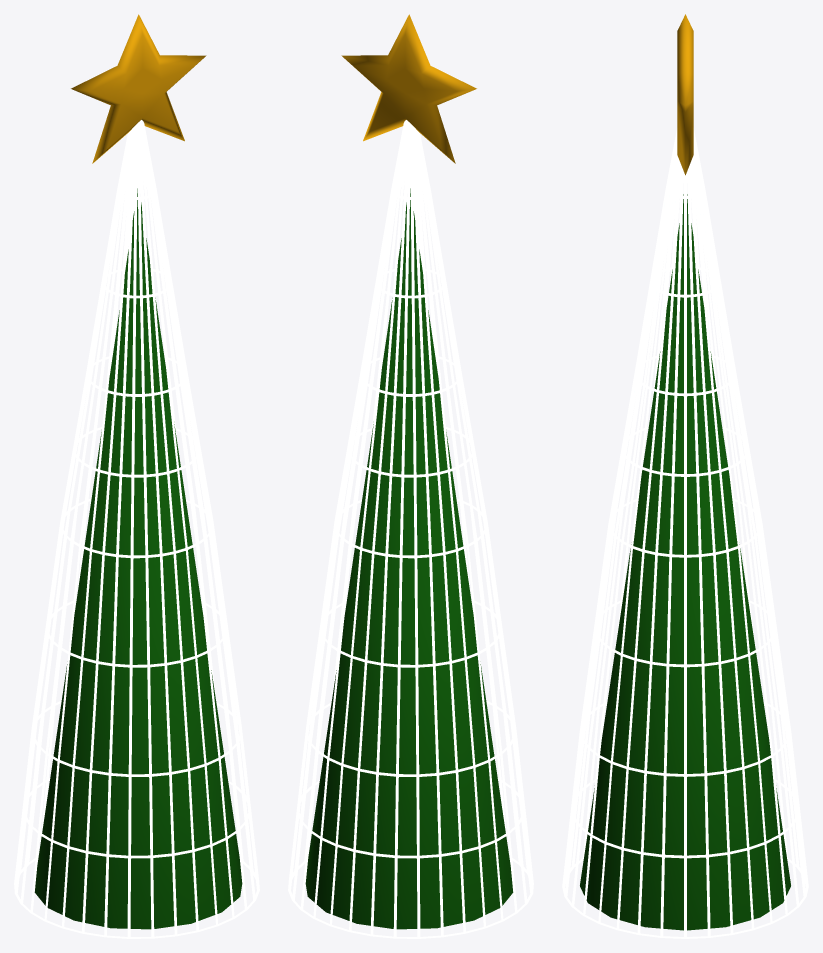
File: ARBOL CON LUCES 2.fbx
3 views of the same model, side by side, from view 1: azimuth 30°, elevation 25°; view 2: azimuth 150°, elevation 25°; view 3: azimuth 270°, elevation 25° (orthographic).
Parts seen in each view (by area): view 1: Arbol; view 2: Arbol; view 3: Arbol.
Part boxes in pixels (x1,y1,x2,y2): Arbol: (14,14,259,938); Arbol: (288,14,533,938); Arbol: (562,14,808,938).
Bounding box in the file's own units: 563 × 2200 × 563.
